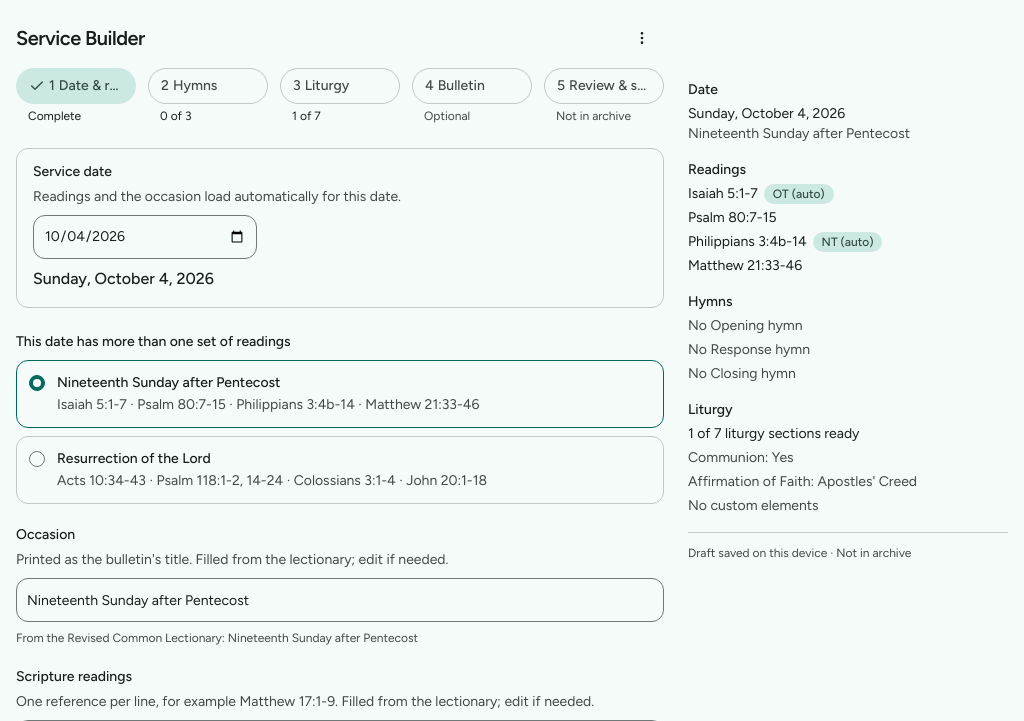
it: occasion and scripture lines (S UX items 4 and 5) › captions the occasion by where it came from
The image size is (1024, 721).
Expected: the text "From the Revised Common Lectionary: Nineteenth Sunday after Pentecost" is shown, [16,631,418,645]
Type " (Harvest)" into the field labelled "Occasion" at point(340, 600), box [16,578,664,622]
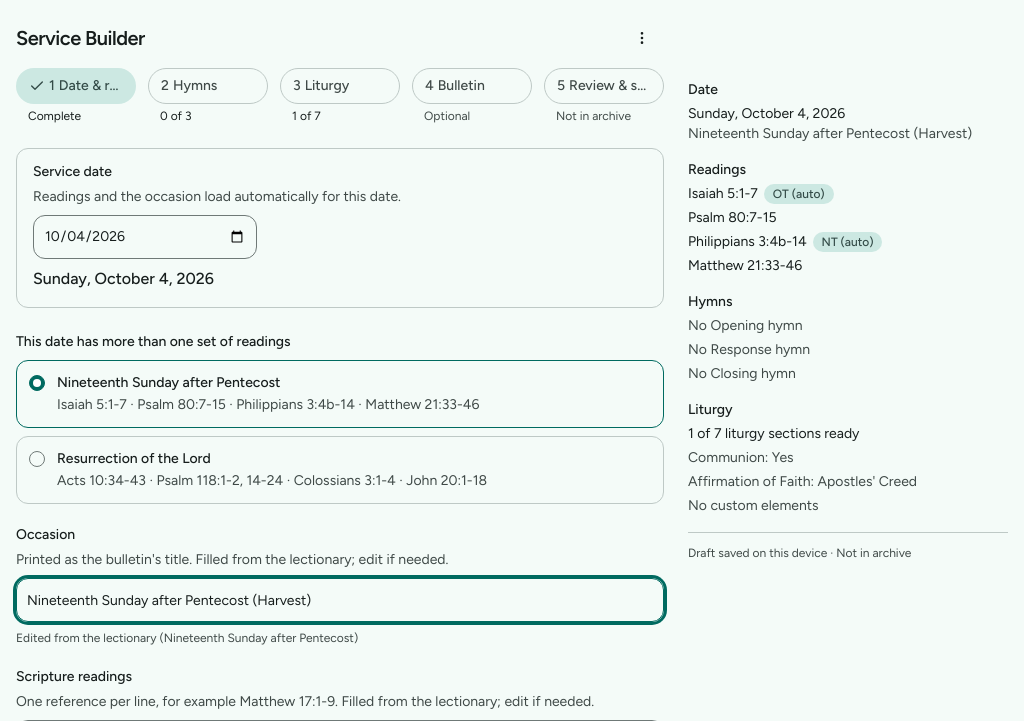
Expected: the field labelled "Occasion" holds "Nineteenth Sunday after Pentecost (Harvest)", [16,578,664,622]
Expected: the text "Edited from the lectionary (Nineteenth Sunday after Pentecost)" is shown, [16,631,358,645]
Type "2026-10-11" into the date field labelled "Service date" at point(145, 237), box [33,215,257,259]
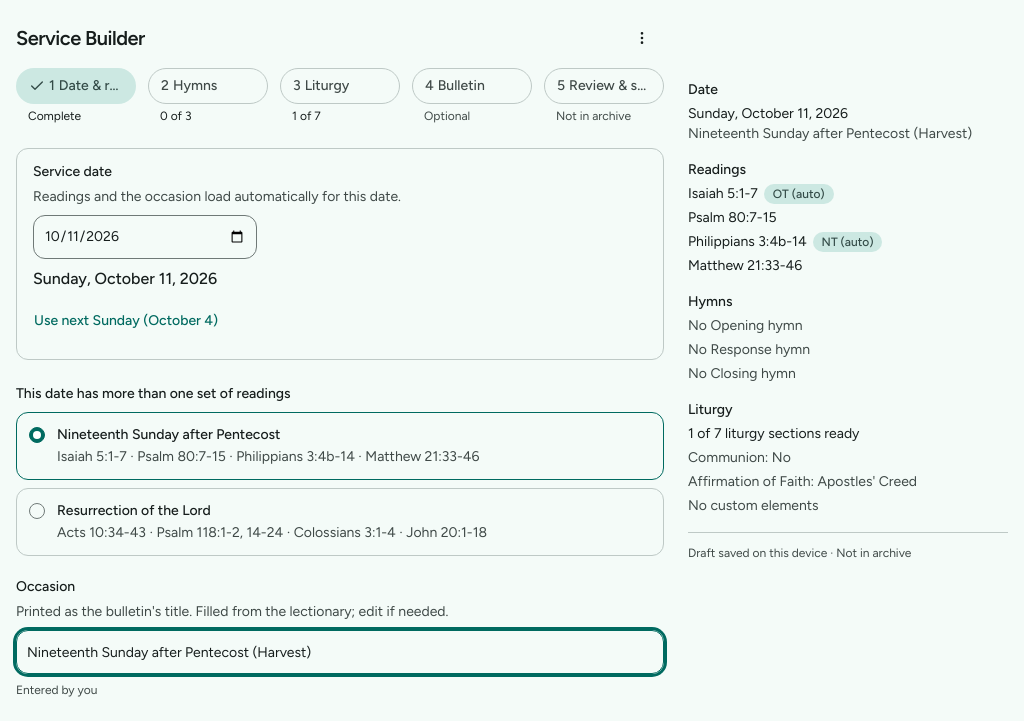
Expected: the text "Entered by you" is shown, [16,683,97,697]
